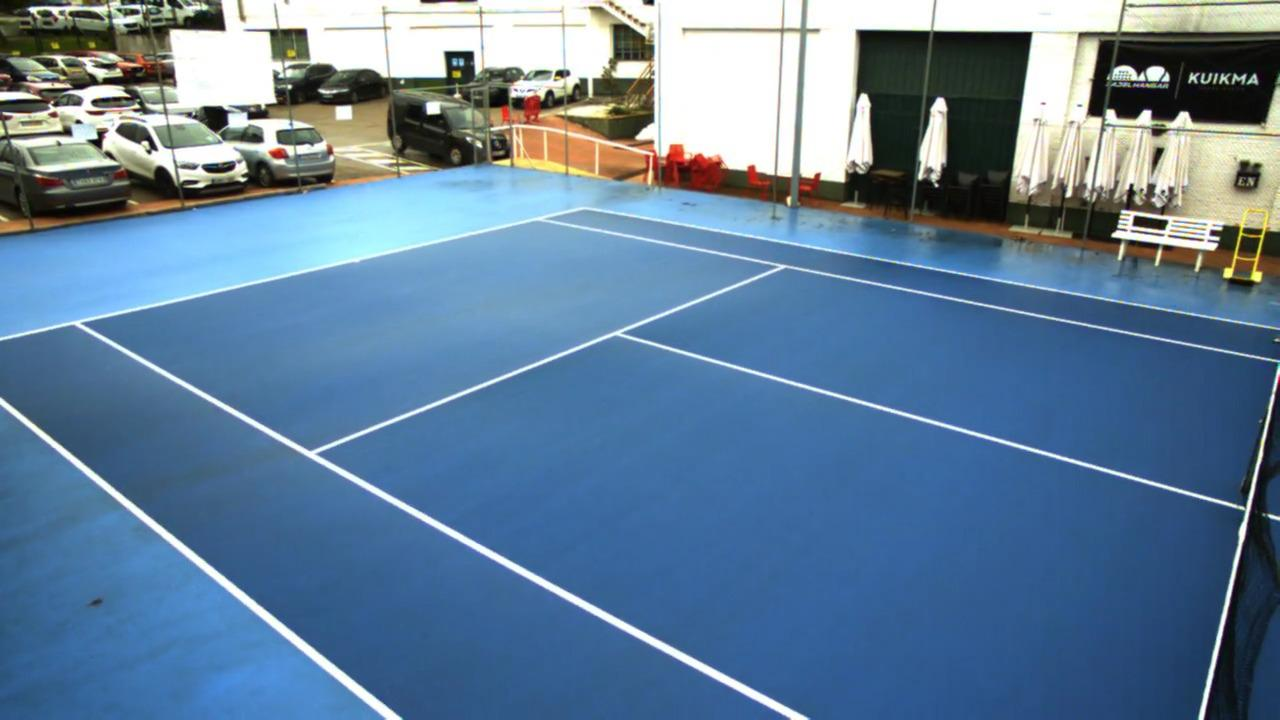cancha_tenis: (76, 217, 1280, 720)
point_f1: (67, 307, 100, 340)
point_f2: (529, 211, 552, 229)
point_fc1: (347, 249, 367, 270)
point_i1: (300, 439, 329, 471)
point_i2: (764, 253, 797, 279)
point_ic1: (604, 321, 637, 344)
